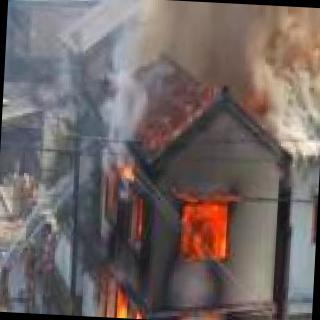fire: (83, 145, 304, 320), (287, 33, 320, 107), (314, 194, 318, 246)
